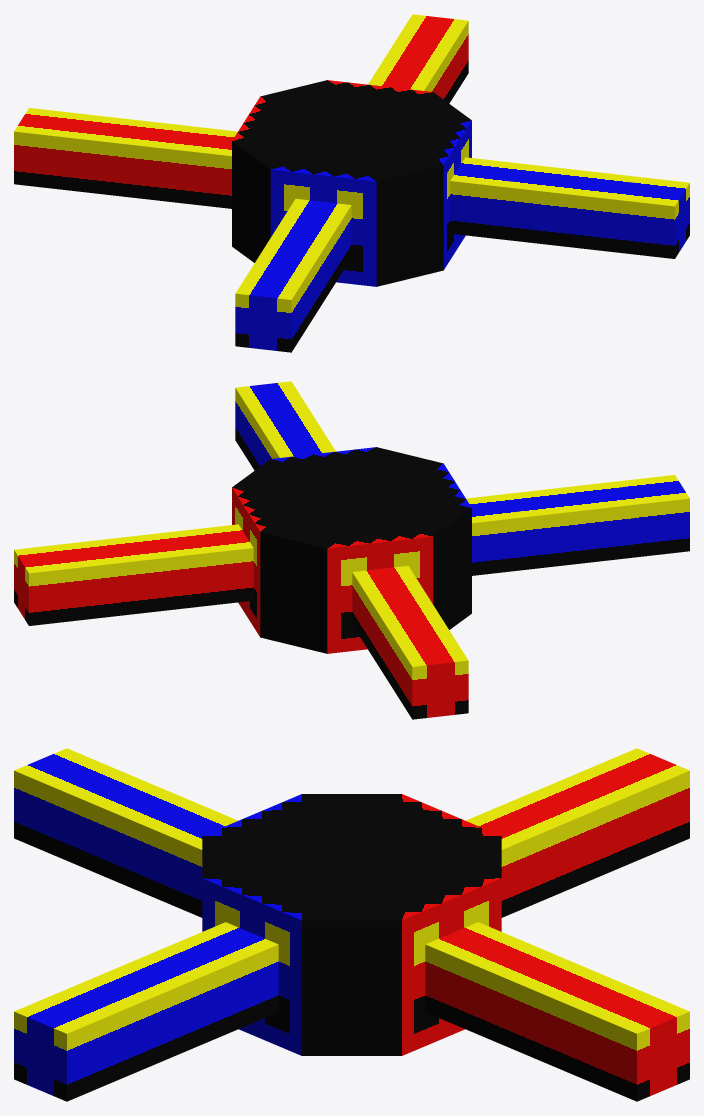
File: non_axis_aligned_bones.obj
3 renders of one model, top to bottom at view 1: azimuth 30°, elevation 25°; view 2: azimuth 150°, elevation 25°; view 3: azimuth 270°, elevation 25°, orthographic. The views are drawn at different scales.
Visible parts, largest first — view 1: Cube.002, Cube; view 2: Cube.002, Cube; view 3: Cube.002, Cube.
Boxes of the visible parts, x1,y1,x2,y2 form: Cube.002: (14, 14, 689, 352); Cube: (232, 80, 471, 286); Cube.002: (14, 381, 689, 719); Cube: (232, 447, 471, 653); Cube.002: (14, 748, 689, 1101); Cube: (202, 794, 501, 1055).
Size of the model in its own units: 2.26 by 0.5 by 2.26.
